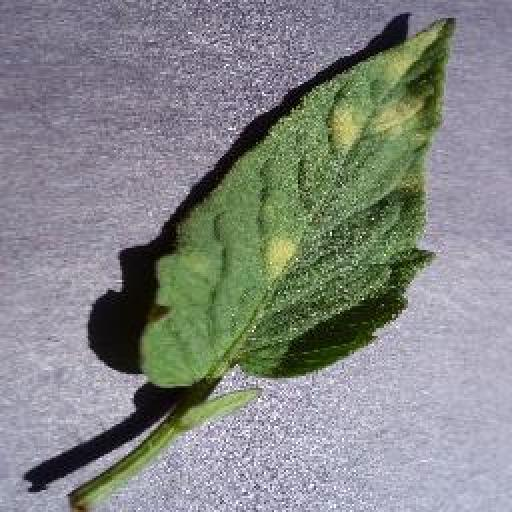disease_tomato: (138, 14, 459, 386)
